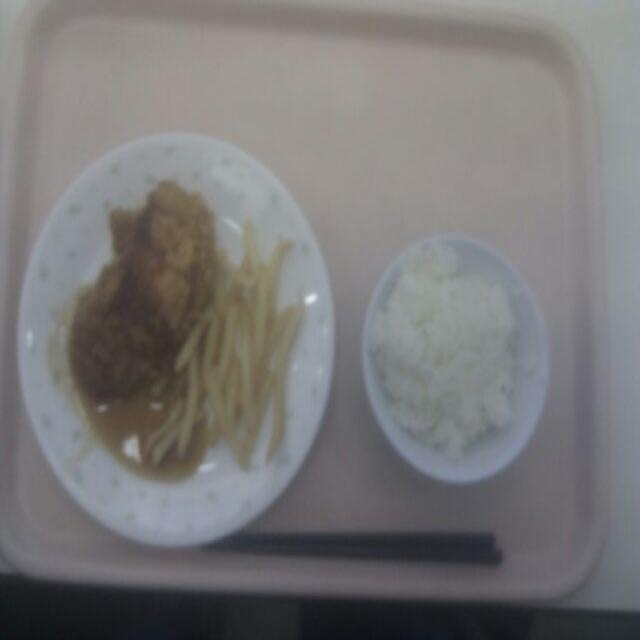Rice: (382, 258, 532, 472)
